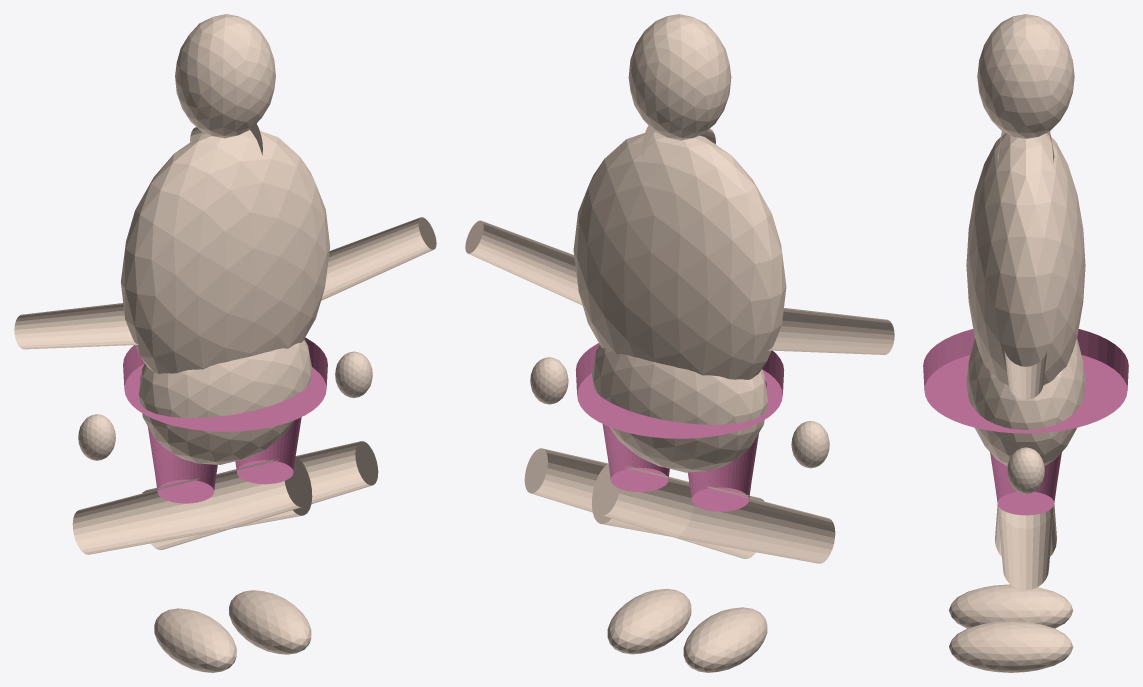
The model's file is masculino-shorts.glb.
3 renders of one model, left to right at view 1: azimuth 30°, elevation 25°; view 2: azimuth 150°, elevation 25°; view 3: azimuth 270°, elevation 25°, orthographic.
Visible parts, largest first — view 1: Avatar0, Avatar1, Avatar3, Prenda, Avatar4, Avatar8, Avatar10, Avatar6, Avatar5, Avatar9, Avatar7, Avatar11; view 2: Avatar0, Avatar1, Avatar3, Prenda, Avatar4, Avatar8, Avatar10, Avatar6, Avatar9, Avatar5, Avatar11, Avatar7; view 3: Avatar0, Prenda, Avatar3, Avatar1, Avatar9, Avatar5, Avatar8, Avatar11, Avatar10, Avatar4.
Boxes of the visible parts, x1=… form: Avatar0: x1=121, y1=130, x2=330, y2=373; Avatar1: x1=138, y1=339, x2=312, y2=464; Avatar3: x1=175, y1=14, x2=275, y2=138; Prenda: x1=123, y1=337, x2=327, y2=503; Avatar4: x1=72, y1=456, x2=312, y2=554; Avatar8: x1=142, y1=441, x2=378, y2=549; Avatar10: x1=321, y1=217, x2=436, y2=300; Avatar6: x1=14, y1=303, x2=138, y2=349; Avatar5: x1=154, y1=608, x2=236, y2=672; Avatar9: x1=229, y1=590, x2=311, y2=654; Avatar7: x1=78, y1=414, x2=115, y2=460; Avatar11: x1=335, y1=351, x2=372, y2=398; Avatar0: x1=573, y1=132, x2=786, y2=379; Avatar1: x1=592, y1=345, x2=767, y2=472; Avatar3: x1=628, y1=14, x2=731, y2=140; Prenda: x1=575, y1=343, x2=784, y2=511; Avatar4: x1=591, y1=464, x2=835, y2=563; Avatar8: x1=524, y1=448, x2=764, y2=558; Avatar10: x1=465, y1=220, x2=582, y2=305; Avatar6: x1=767, y1=308, x2=894, y2=354; Avatar9: x1=607, y1=589, x2=691, y2=654; Avatar5: x1=683, y1=607, x2=767, y2=672; Avatar11: x1=530, y1=357, x2=568, y2=404; Avatar7: x1=791, y1=421, x2=829, y2=468; Avatar0: x1=966, y1=133, x2=1085, y2=385; Prenda: x1=923, y1=329, x2=1128, y2=515; Avatar3: x1=977, y1=14, x2=1074, y2=138; Avatar1: x1=966, y1=338, x2=1085, y2=466; Avatar9: x1=949, y1=621, x2=1073, y2=672; Avatar5: x1=949, y1=584, x2=1073, y2=628; Avatar8: x1=997, y1=505, x2=1054, y2=589; Avatar11: x1=1007, y1=447, x2=1044, y2=493; Avatar10: x1=1004, y1=351, x2=1047, y2=399; Avatar4: x1=995, y1=504, x2=1056, y2=556.
Size of the model in its own units: 1.75 by 2.58 by 0.76.
